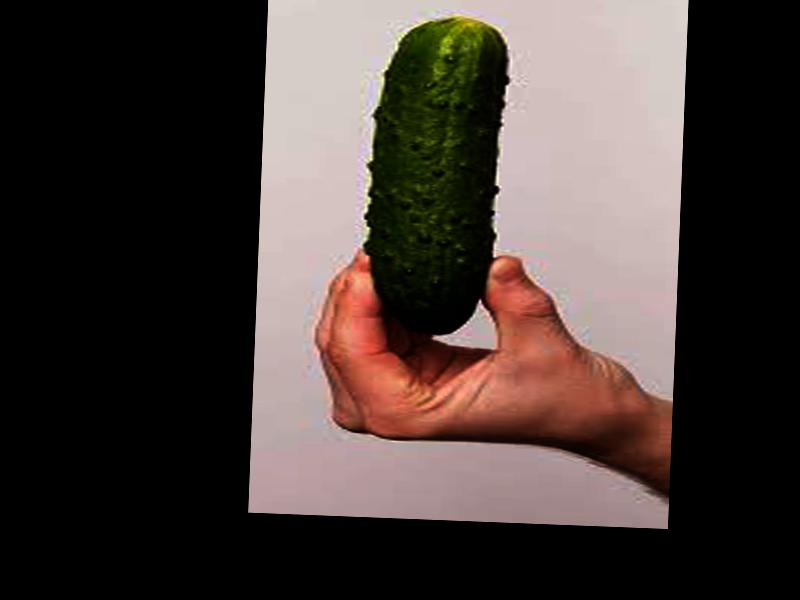Cucumber: (363, 16, 498, 337)
